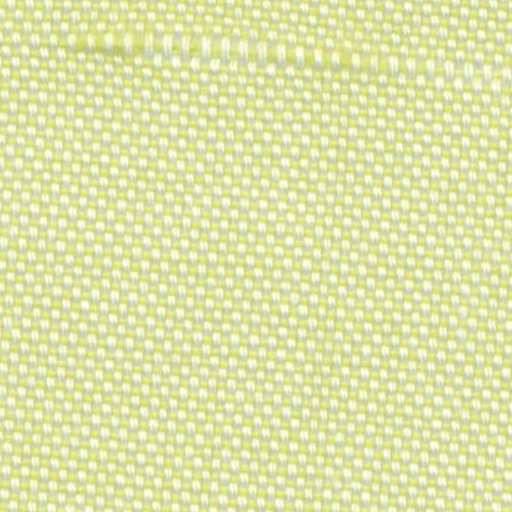DaiSha: (53, 19, 501, 94)
